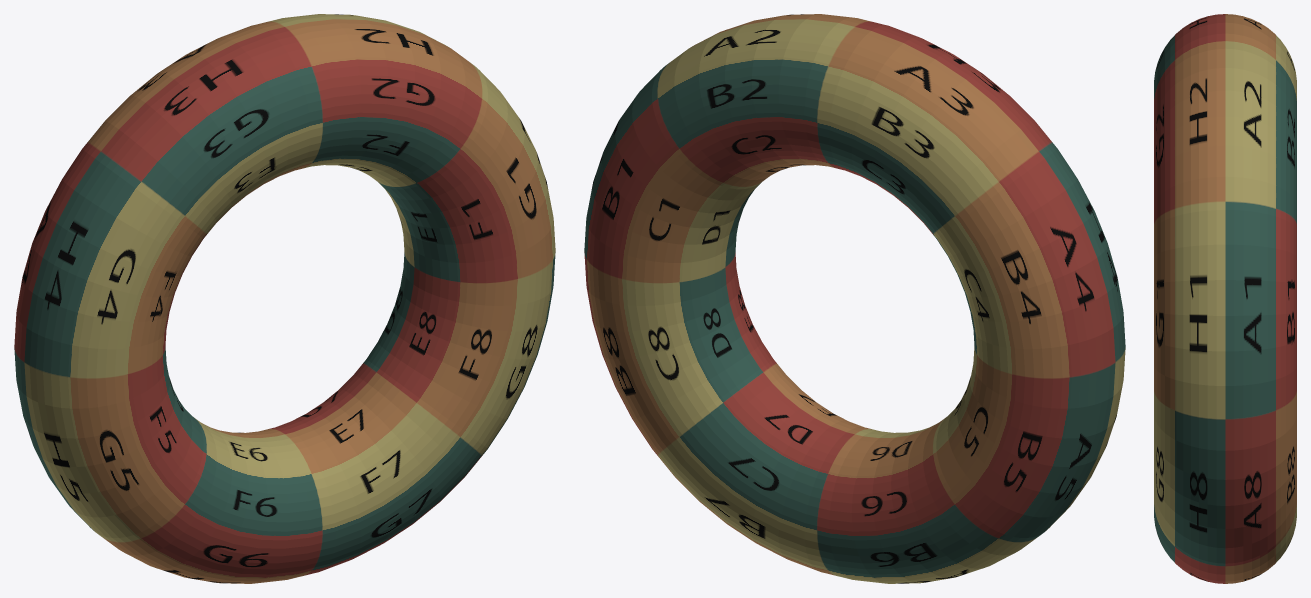
File: texture_torus_R13_r16.glb
The picture shows the model from 3 angles, left to right: view 1: azimuth 30°, elevation 25°; view 2: azimuth 150°, elevation 25°; view 3: azimuth 270°, elevation 25°; orthographic projection. The views are drawn at different scales.
Visible parts, largest first — view 1: world; view 2: world; view 3: world.
Part boxes in pixels (x1,y1,x2,y2): world: (14, 14, 555, 583); world: (584, 14, 1125, 583); world: (1154, 14, 1296, 583).
Size of the model in its own units: 24.93 by 24.88 by 6.25.
1 material, 1 textured.
